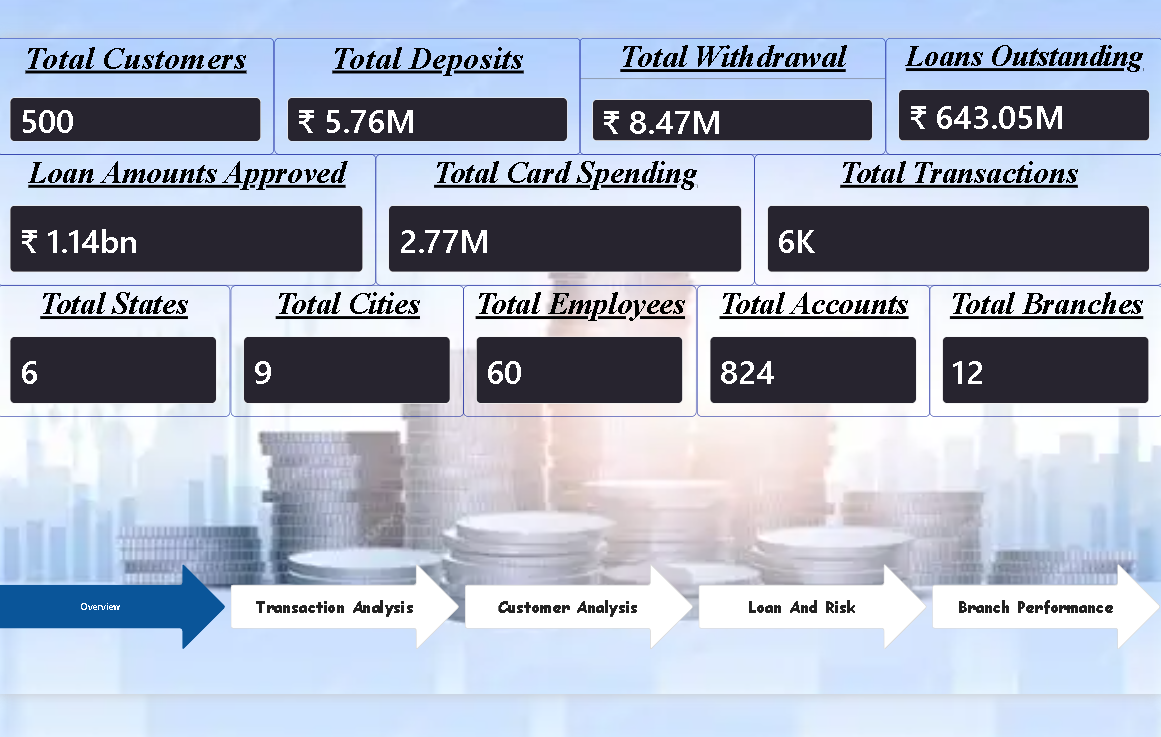

Layout of this report page (visuals, bound fields, positions):
{"tool":"powerbi","page":{"name":"Overview","canvas":[1920,1080],"ordinal":0},"visuals":[{"type":"cardVisual","title":"Total Customers","fields":{"Data":["customers.Total_Customers"]},"box":[0,0,456,192],"z":0},{"type":"cardVisual","title":"Total Deposits                           ","fields":{"Data":["transactions.Deposits"]},"box":[456,0,504,192],"z":1000},{"type":"cardVisual","title":"Loan Amounts Approved                          ","fields":{"Data":["loans.Approved_Amount"]},"box":[0,192,624,216],"z":2000},{"type":"cardVisual","title":"Total Withdrawal                   ","fields":{"Data":["transactions.Withdrawal"]},"box":[960,0,504,192],"z":3000},{"type":"cardVisual","title":"Loans Outstanding                          ","fields":{"Data":["loans.Outstanding_Amount_2"]},"box":[1464,0,456,192],"z":4000},{"type":"cardVisual","title":"Total Card Spending","fields":{"Data":["Sum(card_transactions.amount)"]},"box":[624,192,624,216],"z":5001},{"type":"cardVisual","title":"Total Accounts","fields":{"Data":["Count(accounts.account_id)"]},"box":[1152,408,384,216],"z":5002},{"type":"cardVisual","title":"Total Branches","fields":{"Data":["Count(accounts.branch_id)"]},"box":[1536,408,384,216],"z":5003},{"type":"cardVisual","title":"Total States","fields":{"Data":["Count(branches.state)"]},"box":[0,408,384,216],"z":5004},{"type":"cardVisual","title":"Total Cities","fields":{"Data":["Count(branches.city)"]},"box":[384,408,384,216],"z":5005},{"type":"cardVisual","title":"Total Employees","fields":{"Data":["Count(employees.employee_id)"]},"box":[768,408,384,216],"z":5007},{"type":"cardVisual","title":"Total Transactions","fields":{"Data":["Count(transactions.transaction_id)"]},"box":[1248,192,672,216],"z":5008},{"type":"pageNavigator","box":[0,864,1920,144],"z":5009}]}

Visuals, with their boxes on the page's 1920x1080 design canvas (x1, y1, x2, y2). These are canvas units, not pixel positions in the 1161x737 screenshot, which may show the page scaled, cropped or inside an application window:
"Total Customers" cardVisual: [x1=0, y1=0, x2=456, y2=192]
"Total Deposits                           " cardVisual: [x1=456, y1=0, x2=960, y2=192]
"Loan Amounts Approved                          " cardVisual: [x1=0, y1=192, x2=624, y2=408]
"Total Withdrawal                   " cardVisual: [x1=960, y1=0, x2=1464, y2=192]
"Loans Outstanding                          " cardVisual: [x1=1464, y1=0, x2=1920, y2=192]
"Total Card Spending" cardVisual: [x1=624, y1=192, x2=1248, y2=408]
"Total Accounts" cardVisual: [x1=1152, y1=408, x2=1536, y2=624]
"Total Branches" cardVisual: [x1=1536, y1=408, x2=1920, y2=624]
"Total States" cardVisual: [x1=0, y1=408, x2=384, y2=624]
"Total Cities" cardVisual: [x1=384, y1=408, x2=768, y2=624]
"Total Employees" cardVisual: [x1=768, y1=408, x2=1152, y2=624]
"Total Transactions" cardVisual: [x1=1248, y1=192, x2=1920, y2=408]
pageNavigator: [x1=0, y1=864, x2=1920, y2=1008]
